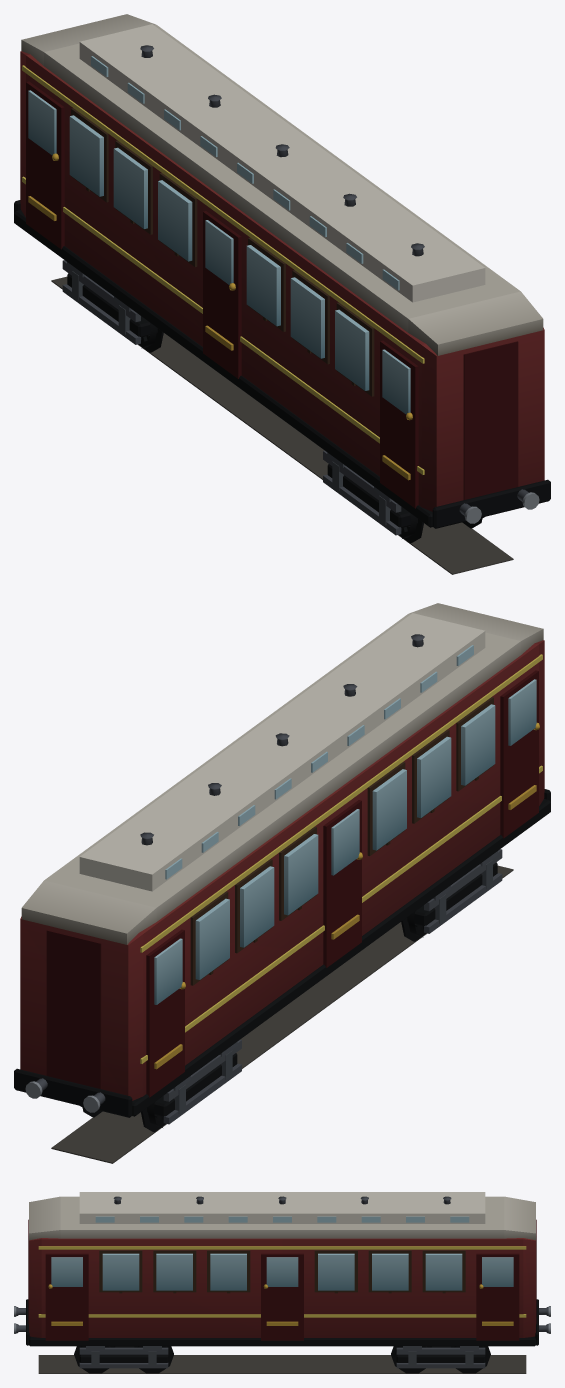
File: passenger-coach.glb
3 views of the same model, one above another, from view 1: azimuth 30°, elevation 25°; view 2: azimuth 150°, elevation 25°; view 3: azimuth 270°, elevation 25° (orthographic). The views are drawn at different scales.
Visible parts, largest first — view 1: passenger_coach; view 2: passenger_coach; view 3: passenger_coach.
Boxes of the visible parts, x1,y1,x2,y2 form: passenger_coach: (14,14,550,574); passenger_coach: (14,603,550,1163); passenger_coach: (14,1192,550,1373).
Bounding box in the file's own units: 1.48 × 2.91 × 8.48.
